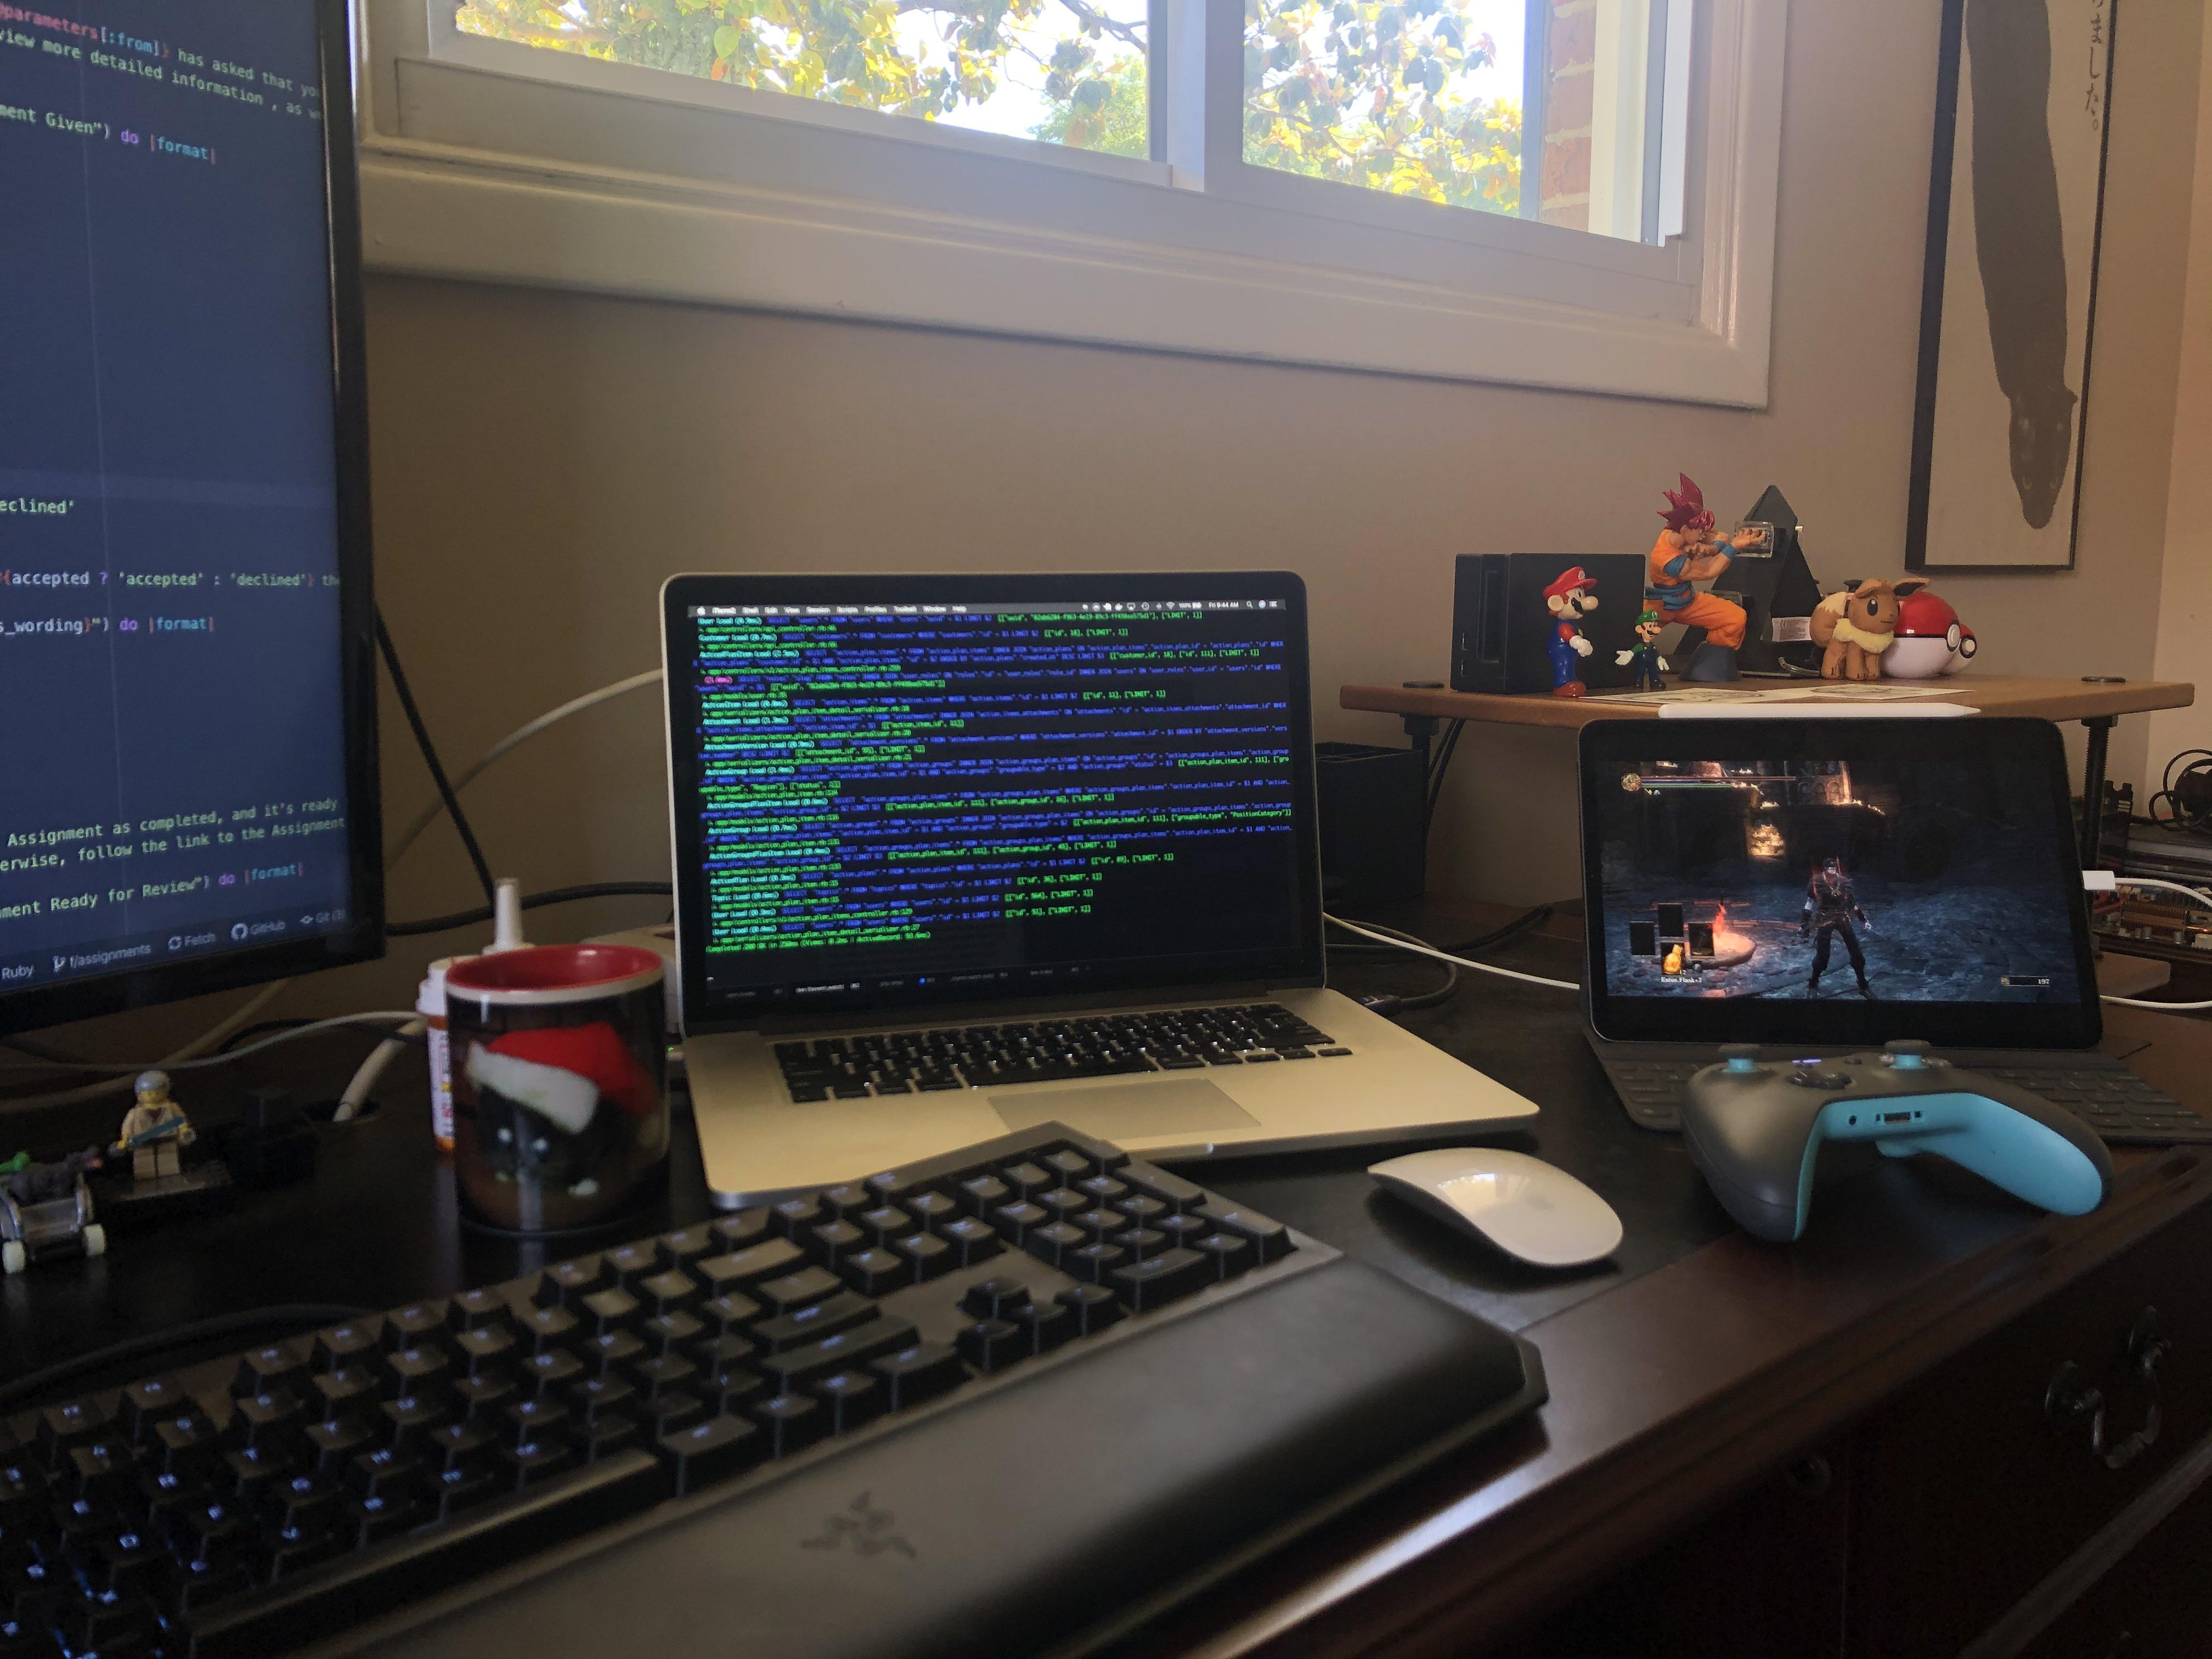Airpods (Generic): (1576, 716, 2109, 1035)
Decoration (Miniature): (1453, 479, 2080, 688)
Desk (Generic): (0, 964, 2198, 1659)
Gaming Controller: (1686, 1042, 2123, 1241)
Keyboard (Gaming): (0, 1178, 1604, 1659)
Laptop (OSX): (655, 577, 1503, 1127)
Monitor (Landscape): (0, 0, 381, 948)
Mouse (Generic): (1360, 1133, 1639, 1290)
Mug: (420, 939, 693, 1218)
Storage Drawer: (1703, 1290, 2160, 1643)
